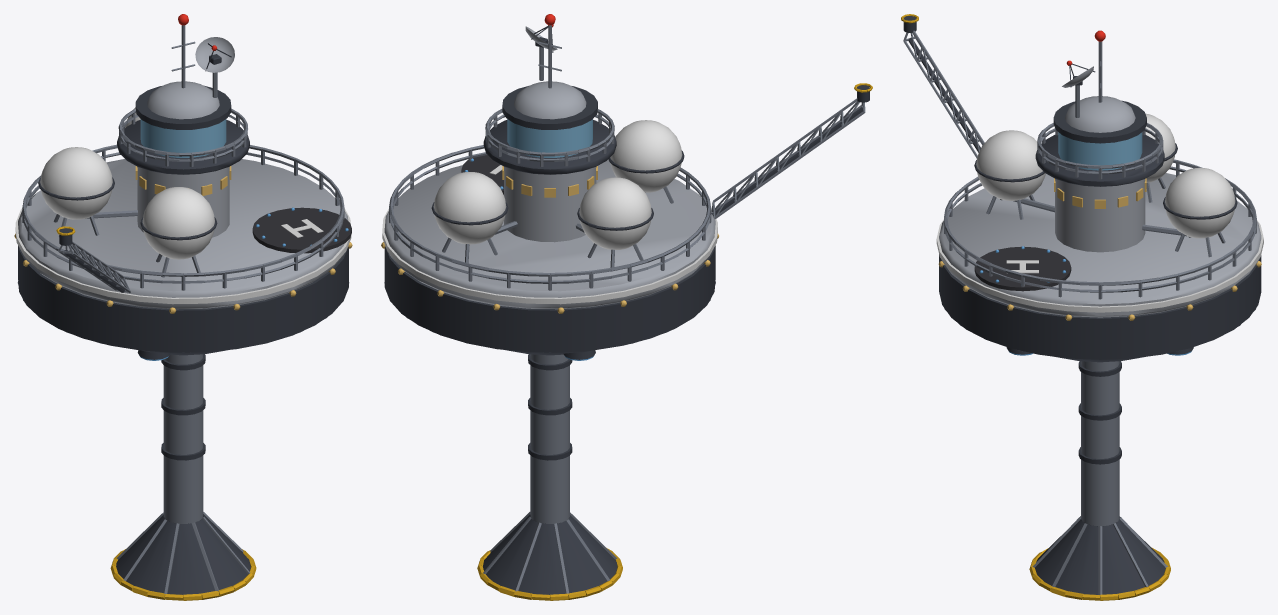
Rendered from mine_gas.fbx.
3 views of the same model, side by side, from view 1: azimuth 30°, elevation 25°; view 2: azimuth 150°, elevation 25°; view 3: azimuth 270°, elevation 25° (orthographic). The views are drawn at different scales.
Parts seen in each view (by area): view 1: mine_gas, mine_gas__dish; view 2: mine_gas; view 3: mine_gas.
Boxes of the visible parts, bbox=[...] form: mine_gas: bbox=[14, 14, 352, 600]; mine_gas__dish: bbox=[195, 37, 234, 72]; mine_gas: bbox=[381, 14, 872, 600]; mine_gas: bbox=[901, 14, 1263, 600].
Bounding box in the file's own units: 2.57 × 3.7 × 2.25.
